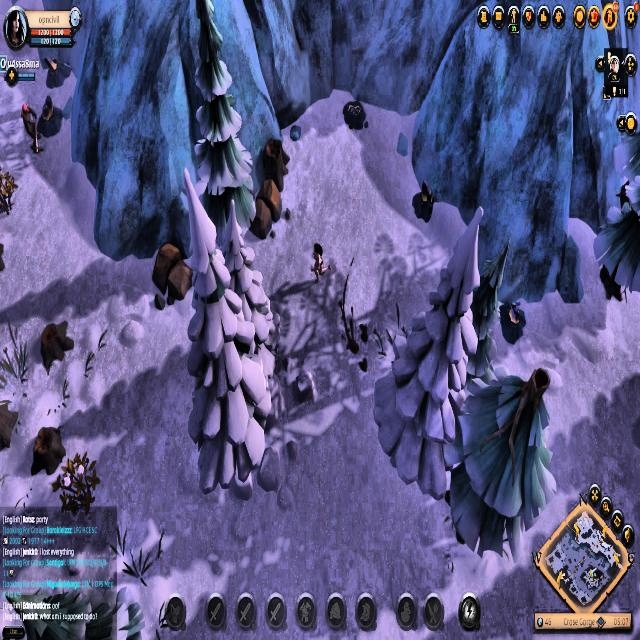copper_ore: (402, 184, 444, 226), (499, 290, 530, 346), (38, 91, 62, 138)
cotton: (55, 454, 106, 515), (0, 156, 21, 225)
limestone: (147, 244, 202, 313), (250, 176, 285, 241)
